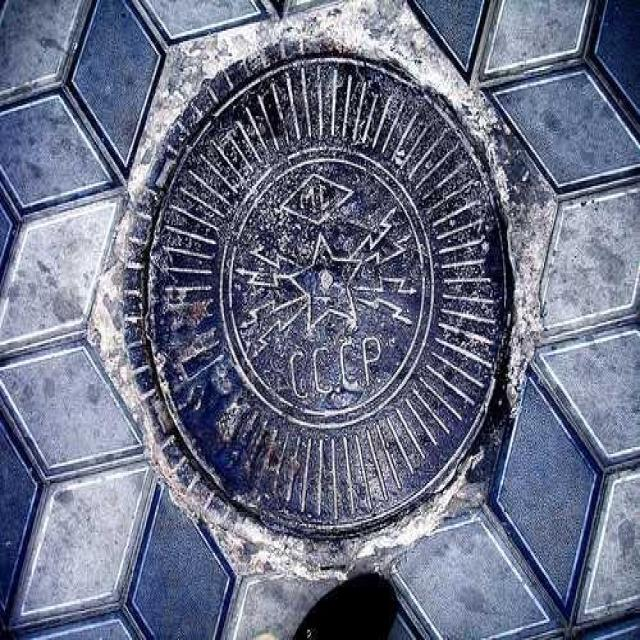manhole: (134, 53, 517, 543)
